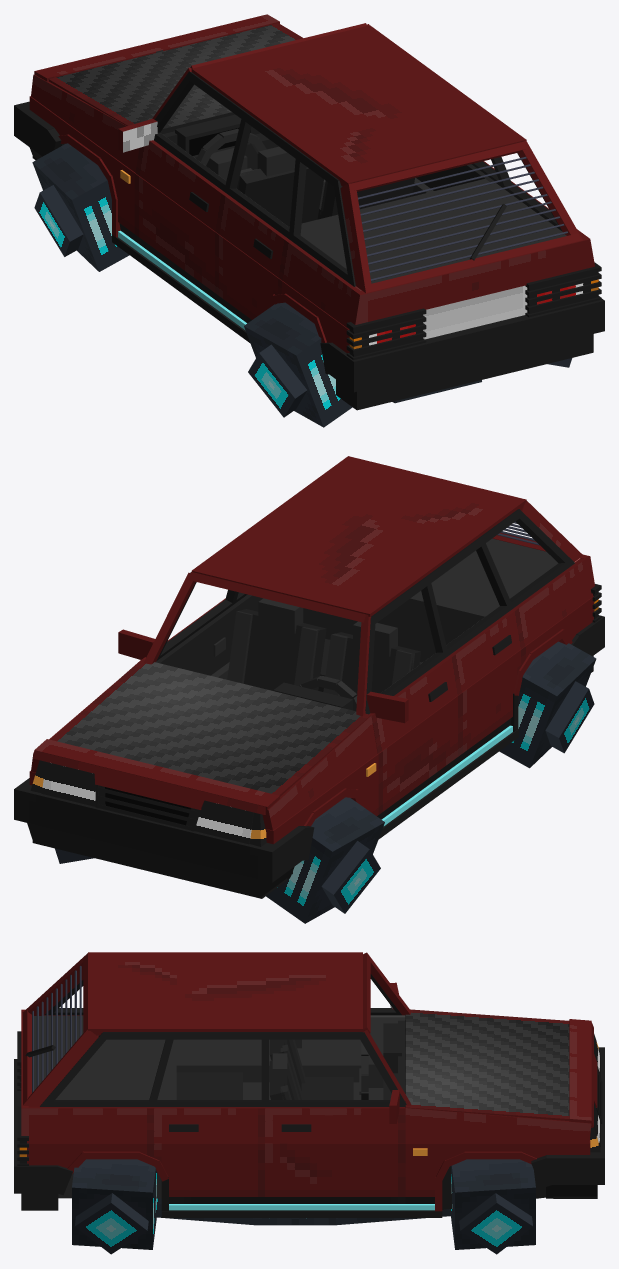
3 renders of one model, top to bottom at view 1: azimuth 30°, elevation 25°; view 2: azimuth 150°, elevation 25°; view 3: azimuth 270°, elevation 25°, orthographic. The views are drawn at different scales.
Parts seen in each view (by area): view 1: BODY_MAIN (×29), bone2 (×7), hover_4 (×2), hover_1 (×2), seat (×2), bone3 (×2), seat2, cube; view 2: BODY_MAIN (×31), bone2 (×7), hover_1 (×2), hover_4 (×2), seat2 (×4), seat (×3), bone3 (×2), cube; view 3: BODY_MAIN (×34), bone3 (×8), hover_2 (×2), hover_3 (×2), cube (×3), bone2 (×2), seat, seat2.
Part boxes in pixels (x1,y1,x2,y2): BODY_MAIN (×29): [14, 14, 604, 410]; bone2 (×7): [154, 71, 371, 293]; hover_4 (×2): [244, 302, 352, 427]; hover_1 (×2): [32, 143, 129, 271]; seat (×2): [238, 146, 323, 226]; bone3 (×2): [471, 140, 582, 240]; seat2: [323, 178, 414, 217]; cube: [118, 230, 246, 330]; BODY_MAIN (×31): [14, 456, 604, 898]; bone2 (×7): [356, 501, 582, 716]; hover_1 (×2): [266, 797, 384, 923]; hover_4 (×2): [499, 641, 596, 768]; seat2 (×4): [227, 598, 326, 690]; seat (×3): [323, 621, 420, 696]; bone3 (×2): [144, 572, 247, 664]; cube: [381, 725, 512, 825]; BODY_MAIN (×34): [14, 952, 604, 1217]; bone3 (×8): [22, 1029, 410, 1106]; hover_2 (×2): [450, 1159, 535, 1254]; hover_3 (×2): [72, 1159, 159, 1254]; cube (×3): [169, 1166, 545, 1225]; bone2 (×2): [22, 953, 411, 1015]; seat: [301, 1077, 353, 1099]; seat2: [272, 1053, 287, 1085].
Bounding box in the file's own units: 2.83 × 2.02 × 5.
1 material, 1 textured.
